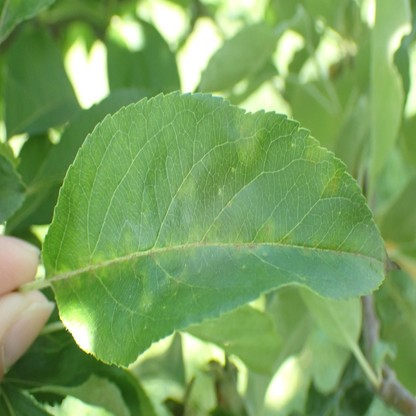scab: (308, 139, 339, 197), (234, 109, 264, 163), (107, 235, 138, 274), (48, 265, 80, 294), (150, 234, 178, 262), (186, 224, 220, 244), (87, 252, 106, 280), (329, 239, 358, 254), (255, 220, 273, 244), (385, 249, 401, 274), (176, 180, 193, 198), (137, 292, 152, 312), (227, 234, 243, 249), (278, 232, 294, 247), (304, 237, 318, 252)
